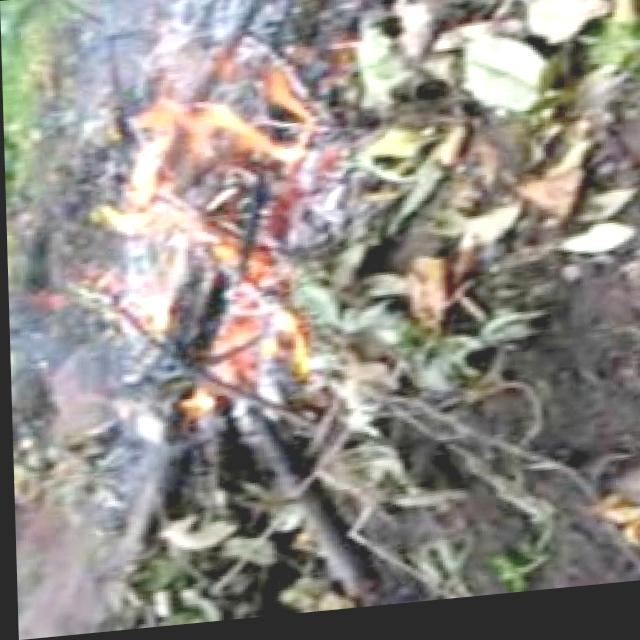helmet: (85, 32, 323, 434)
